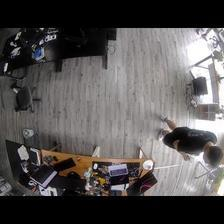normal: (156, 113, 222, 165)
